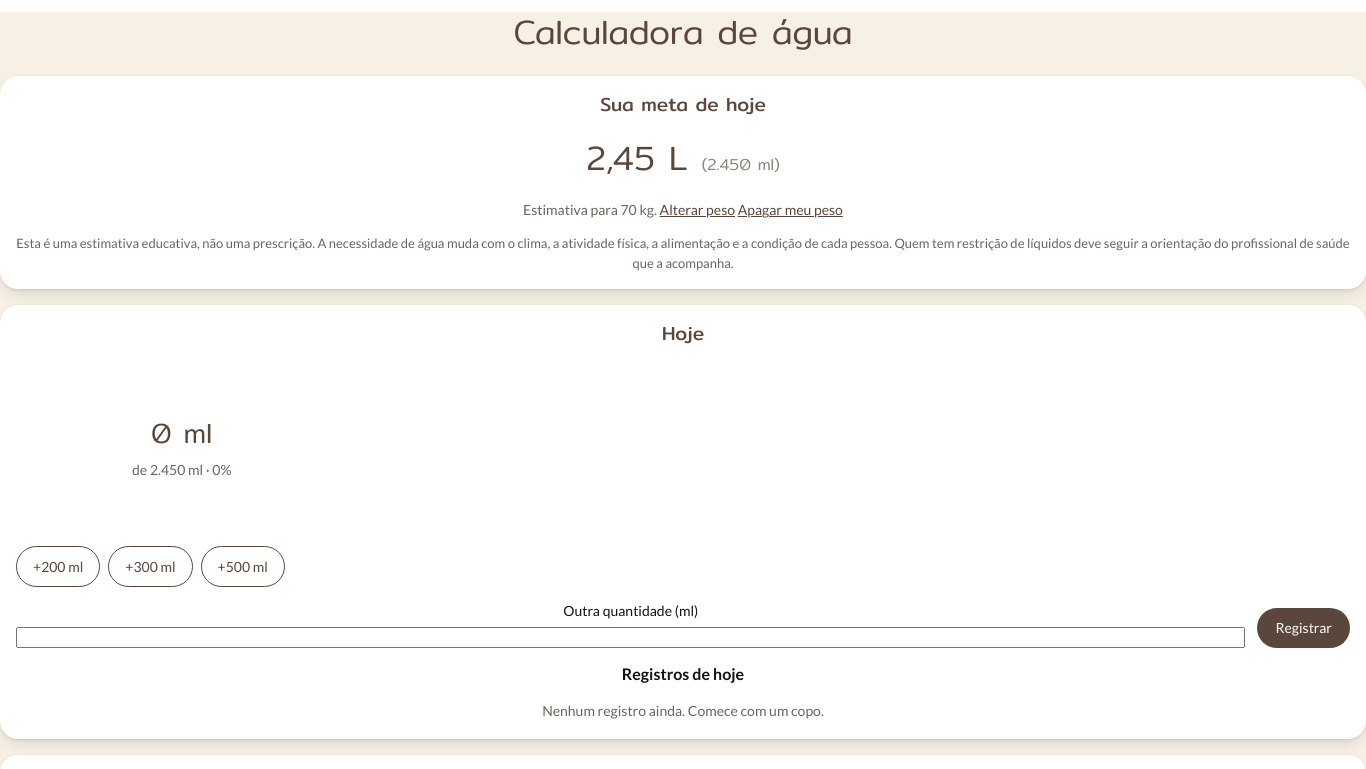
Test: WaterPage — calculadora de água › não registra quantidade inválida
The image size is (1366, 769).
Type "5000" into the field labelled "Outra quantidade (ml)". click: (631, 638)
box: [16,627,1246,648]
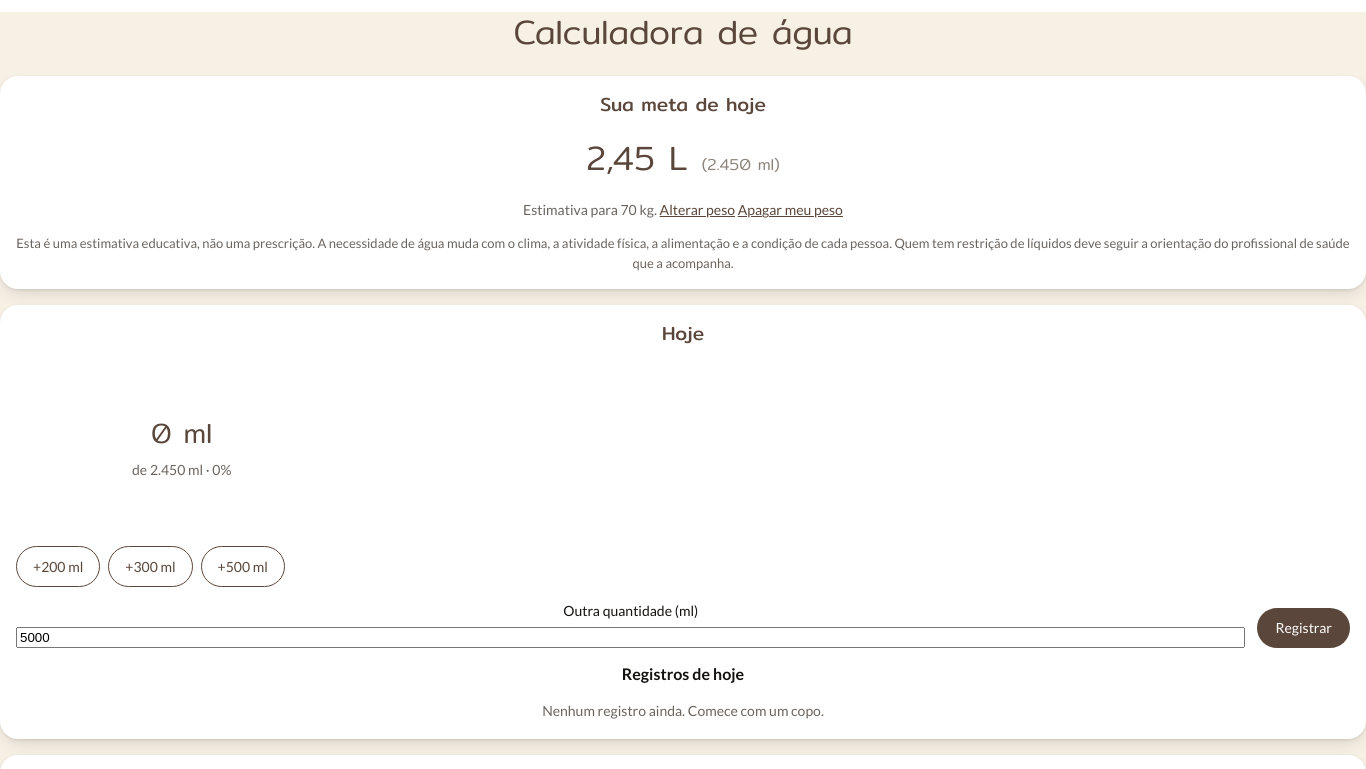
Click the button "Registrar". click: click(1304, 628)
box: [1258,608,1350,648]
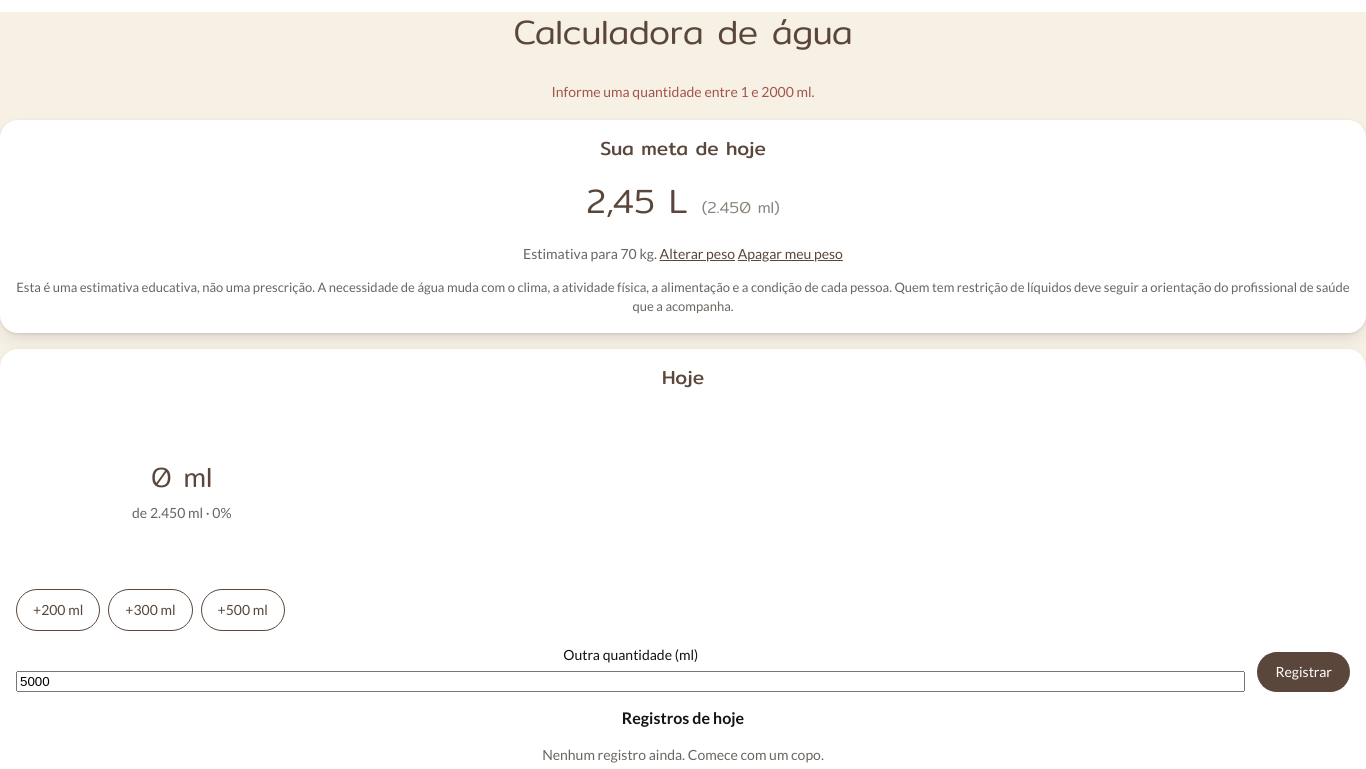
Result: the text "Informe uma quantidade entre 1 e 2000 ml." is shown at [552,83,814,100]
